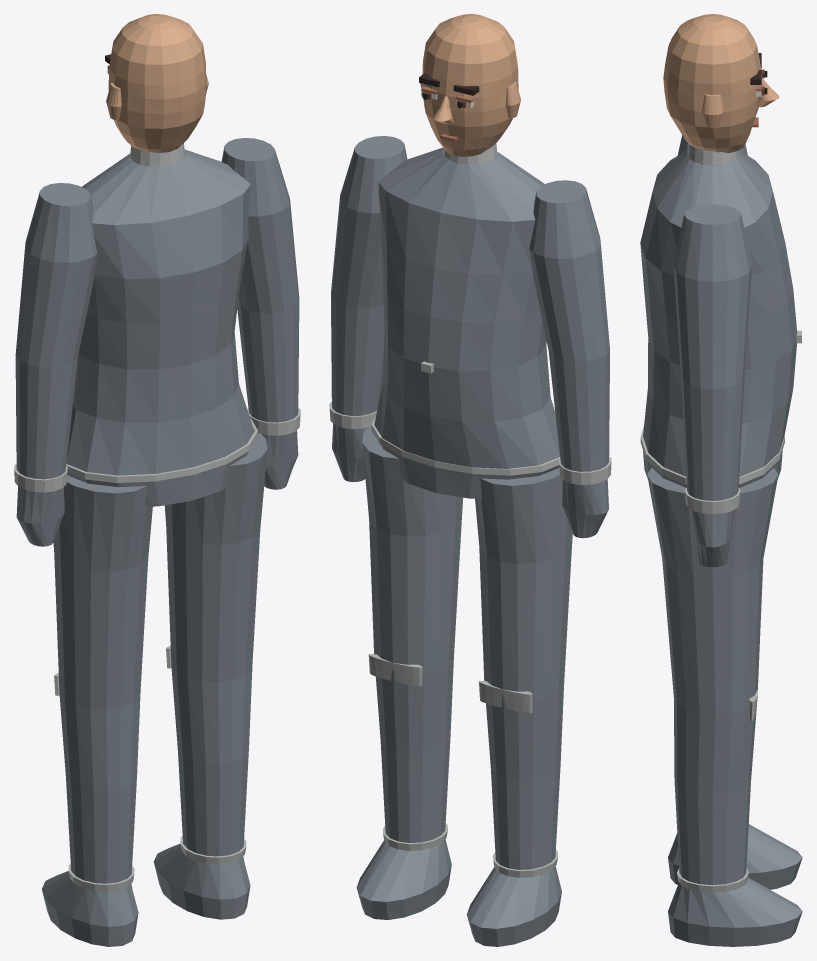
3 views of the same model, side by side, from view 1: azimuth 30°, elevation 25°; view 2: azimuth 150°, elevation 25°; view 3: azimuth 270°, elevation 25° (orthographic).
Visible parts, largest first — view 1: 衣身腹段替换槽 · adultB, 孕期腹部造型替换件 · early, 精细成年头部母版; view 2: 衣身腹段替换槽 · adultB, 孕期腹部造型替换件 · early, 精细成年头部母版; view 3: 衣身腹段替换槽 · adultB, 孕期腹部造型替换件 · early, 精细成年头部母版.
Boxes of the visible parts, <box> form: 衣身腹段替换槽 · adultB: <box>14,138,300,946</box>; 孕期腹部造型替换件 · early: <box>66,238,257,482</box>; 精细成年头部母版: <box>105,14,208,152</box>; 衣身腹段替换槽 · adultB: <box>329,136,611,946</box>; 孕期腹部造型替换件 · early: <box>371,234,560,475</box>; 精细成年头部母版: <box>419,14,520,156</box>; 衣身腹段替换槽 · adultB: <box>640,135,802,946</box>; 孕期腹部造型替换件 · early: <box>640,243,801,484</box>; 精细成年头部母版: <box>663,14,779,153</box>.
Size of the model in its own units: 0.5543 by 1.7 by 0.2823.
9 materials, 9 textured.
